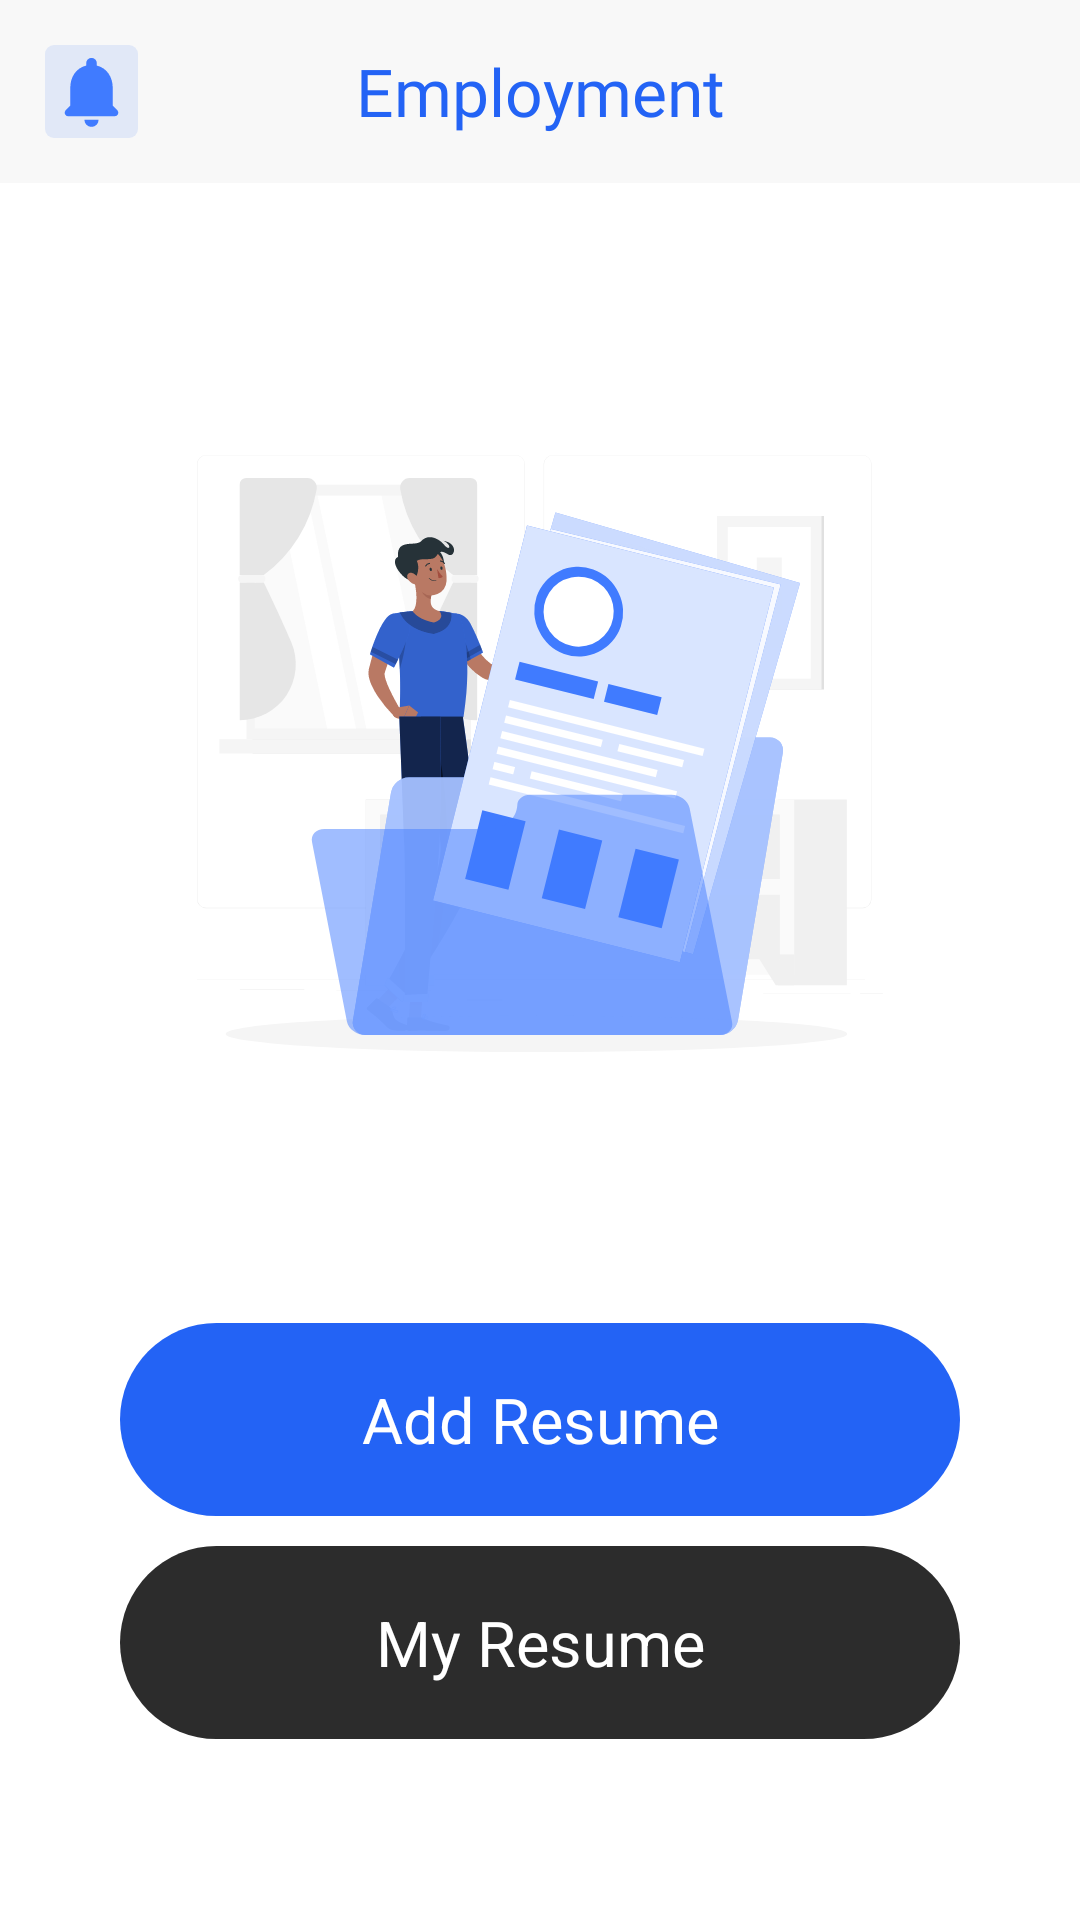

Screen size 1080x1920. Icon name, then its center in pixels as point (x, y):
notification: point (91, 92)
